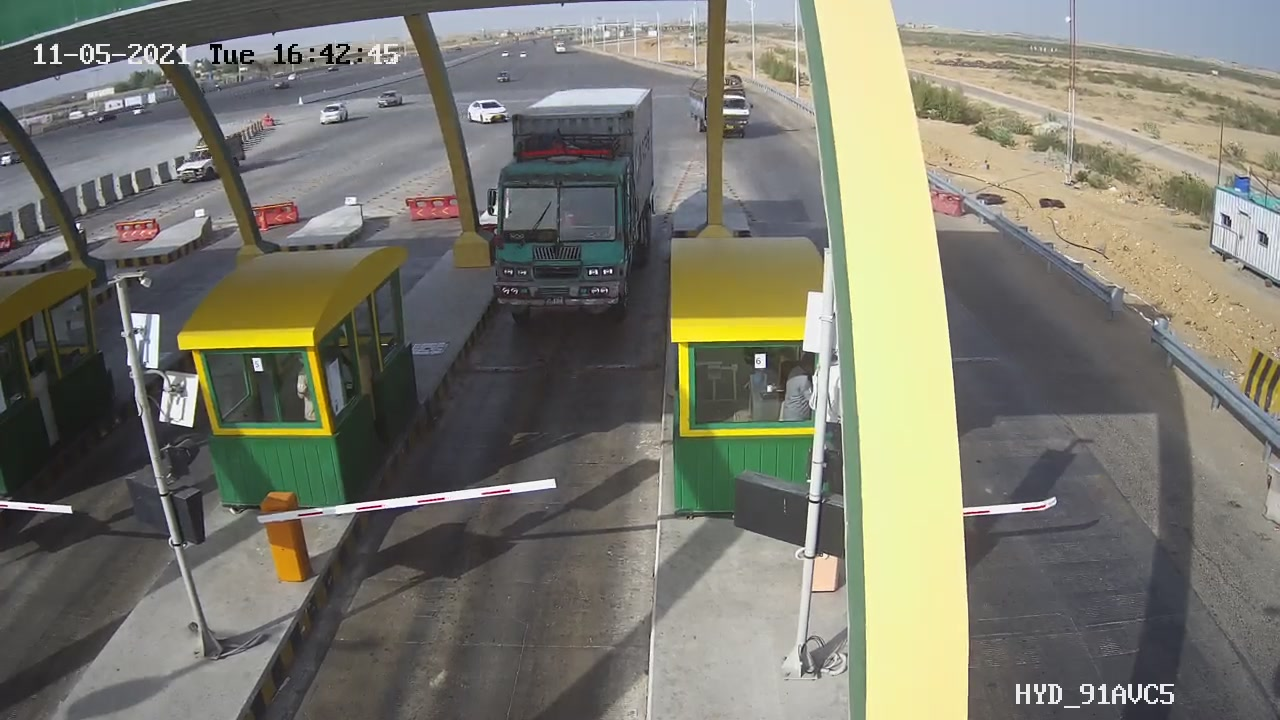F6: (465, 71, 688, 341)
